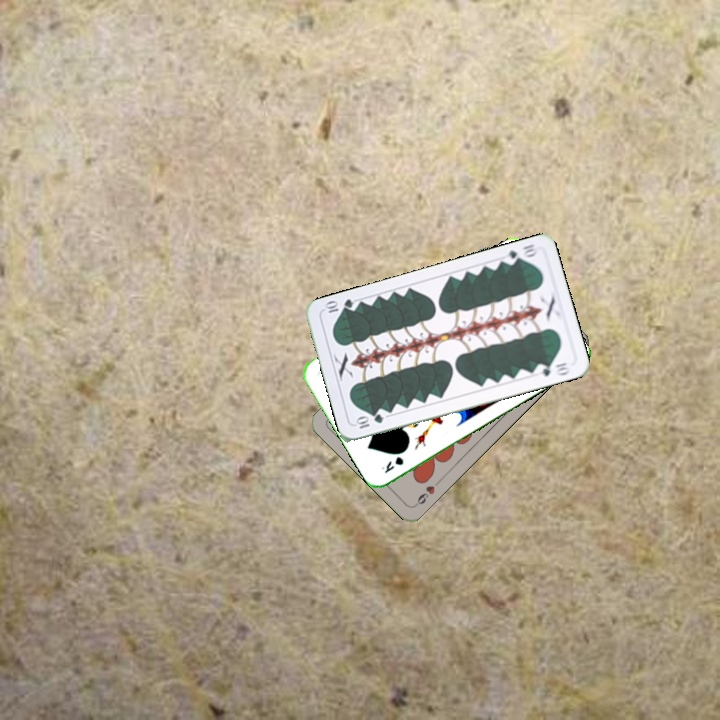G10: (500, 240, 541, 267), (352, 410, 386, 431)
GK: (377, 452, 406, 476)
H9: (411, 476, 443, 509)
